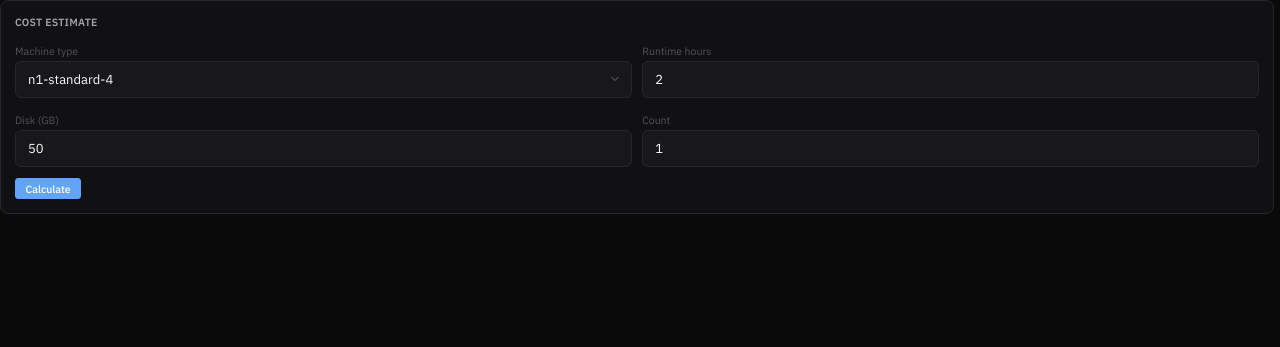
Scenario: VmCostEstimatePanel › shows cost breakdown after submitting the form
Click the button with test id "calculate-cost-btn" at x=48, y=188, box x1=15 y1=178 x2=81 y2=199
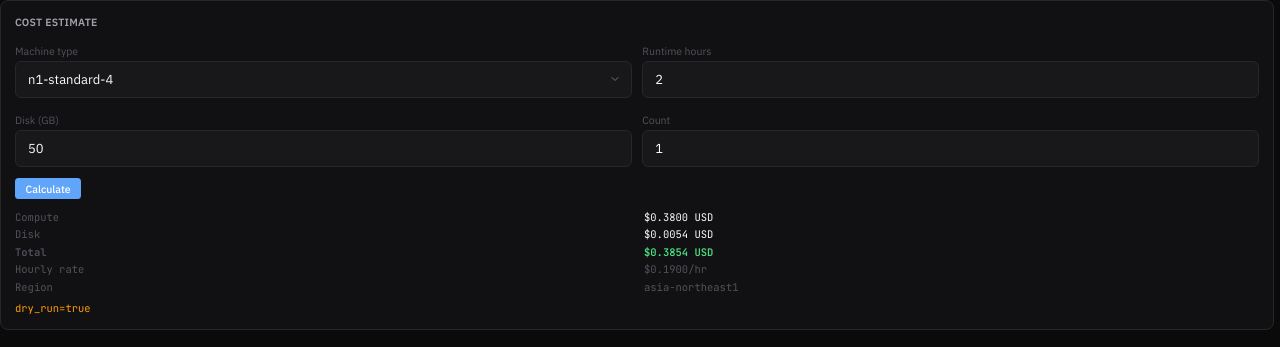
Check: the element with test id "cost-estimate-result" is shown, box x1=15 y1=210 x2=738 y2=314
Check: the text "$0.3854 USD" is shown, box x1=644 y1=244 x2=713 y2=258
Check: the text "$0.3800 USD" is shown, box x1=644 y1=210 x2=713 y2=224
